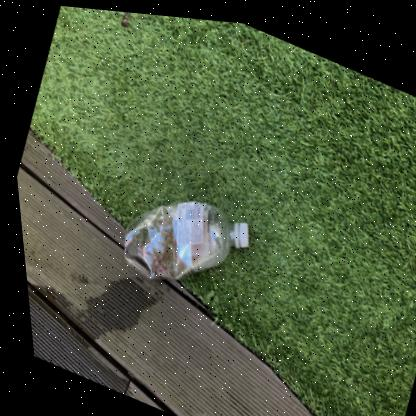Plastic: (118, 197, 244, 276)
